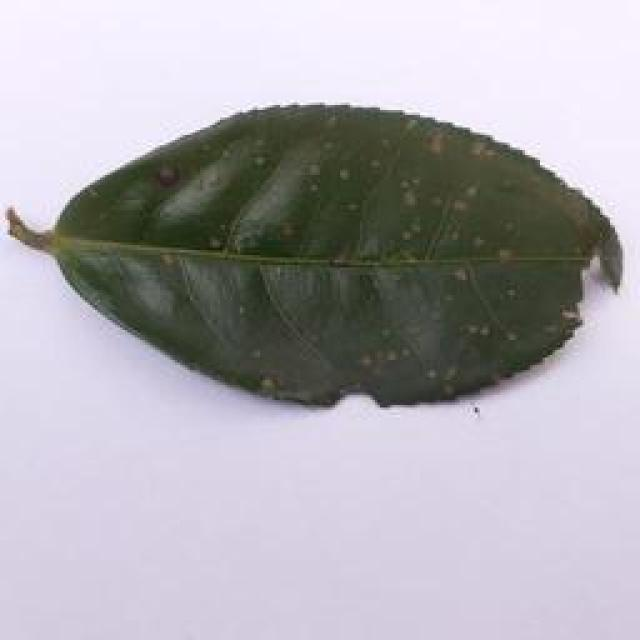Algal Leaf Spot: (37, 89, 624, 423)
